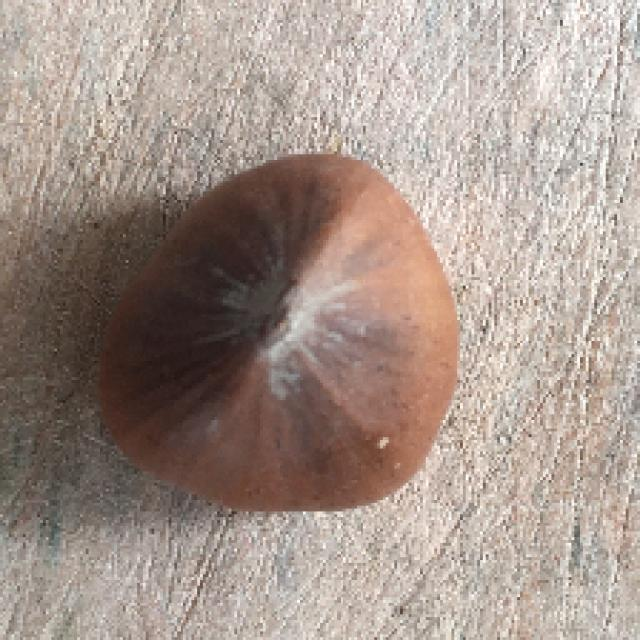damagedHazelnut: (75, 145, 470, 521)
